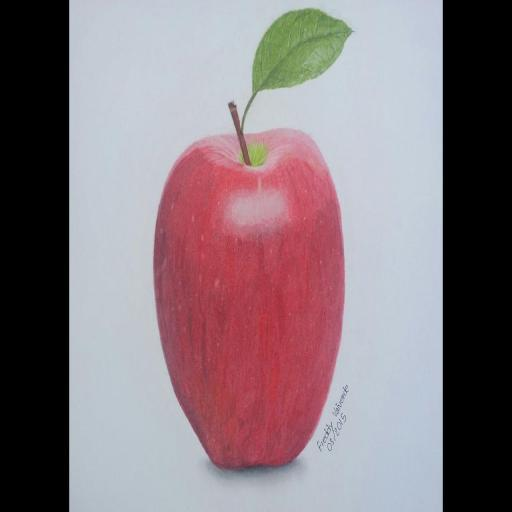apple: (154, 129, 344, 467)
